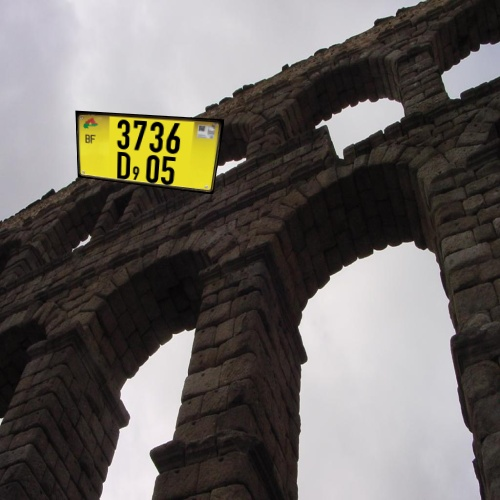plate: (64, 98, 229, 204)
